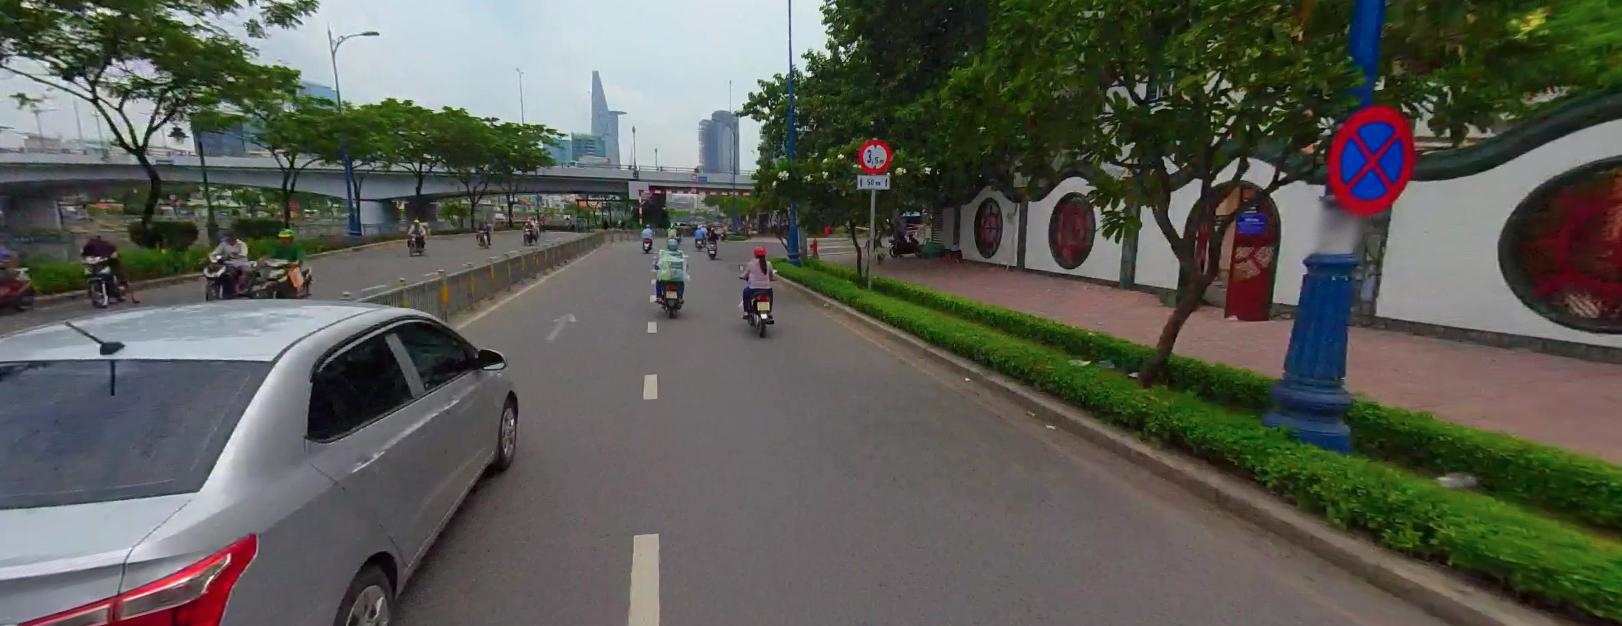Cam con lai: (857, 138, 892, 172)
Cam dung va do: (1323, 95, 1417, 214)
